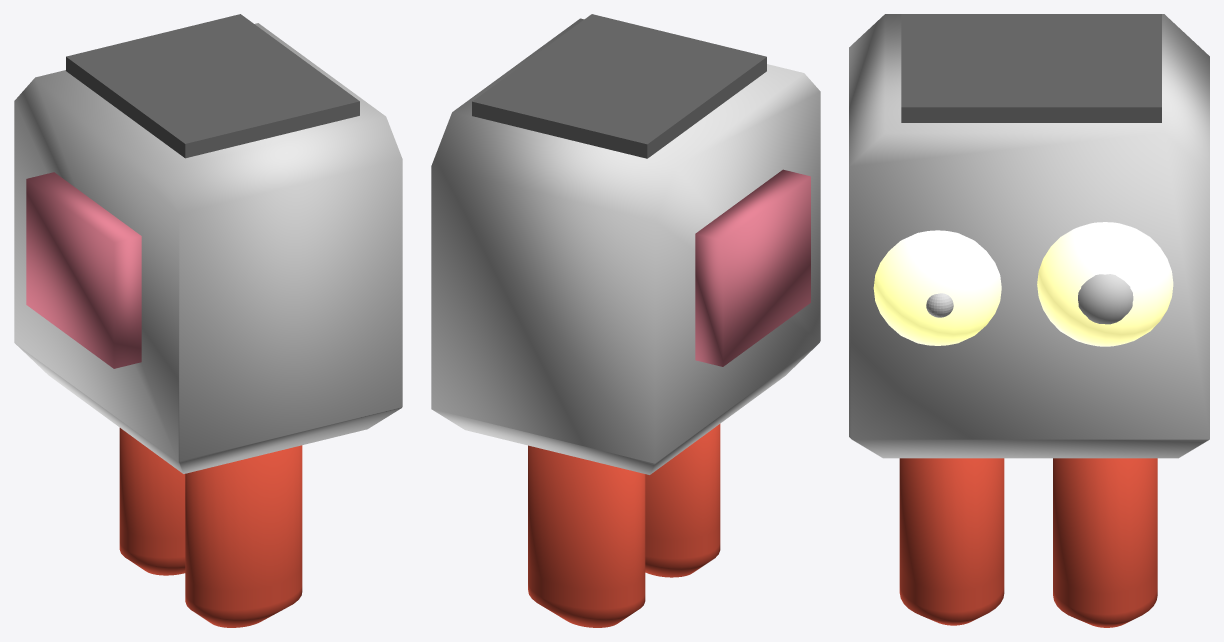
File: CubeHeadwithWalkingAnimations.glb
3 views of the same model, side by side, from view 1: azimuth 30°, elevation 25°; view 2: azimuth 150°, elevation 25°; view 3: azimuth 270°, elevation 25° (orthographic). The views are drawn at different scales.
Parts seen in each view (by area): view 1: Cube, Cube.001, Cylinder, Cube.002, Cylinder.001; view 2: Cube, Cube.001, Cylinder.001, Cube.002, Cylinder; view 3: Cube, Cube.001, Cylinder.001, Cylinder, Sphere.001, Sphere, Sphere.003, Sphere.002.
Boxes of the visible parts, bbox=[...] form: Cube: bbox=[14, 23, 402, 473]; Cube.001: bbox=[66, 14, 359, 158]; Cylinder: bbox=[185, 445, 302, 627]; Cube.002: bbox=[26, 172, 141, 368]; Cylinder.001: bbox=[119, 428, 185, 575]; Cube: bbox=[431, 18, 820, 474]; Cube.001: bbox=[472, 14, 766, 158]; Cylinder.001: bbox=[528, 445, 645, 627]; Cube.002: bbox=[695, 169, 810, 366]; Cylinder: bbox=[645, 424, 720, 577]; Cube: bbox=[849, 14, 1209, 458]; Cube.001: bbox=[901, 14, 1161, 122]; Cylinder.001: bbox=[1053, 458, 1157, 627]; Cylinder: bbox=[899, 458, 1004, 625]; Sphere.001: bbox=[1037, 222, 1173, 346]; Sphere: bbox=[873, 230, 1001, 345]; Sphere.003: bbox=[1078, 274, 1133, 324]; Sphere.002: bbox=[926, 293, 953, 317].
Size of the model in its own units: 4.79 by 7.94 by 4.67.
